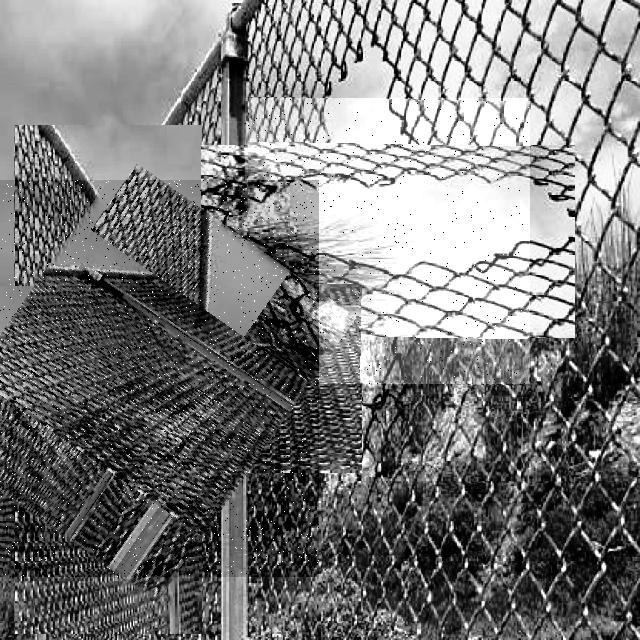anomaly-fence: (245, 98, 530, 384)
fences: (0, 180, 319, 577)
